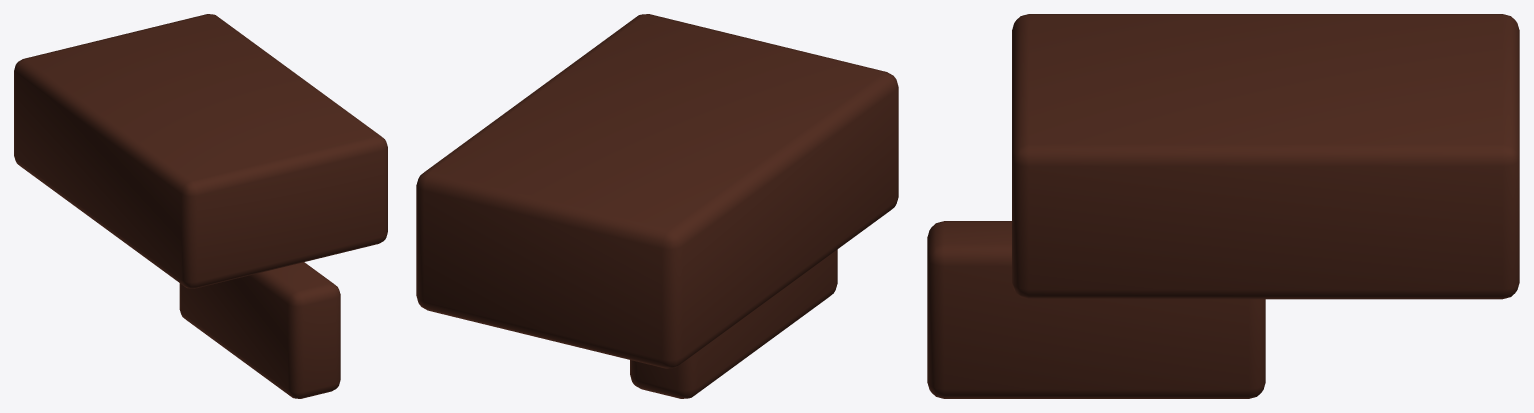
Rendered from BB_PROP_WallSwitch.obj.
The picture shows the model from 3 angles, left to right: view 1: azimuth 30°, elevation 25°; view 2: azimuth 150°, elevation 25°; view 3: azimuth 270°, elevation 25°; orthographic projection. The views are drawn at different scales.
Parts seen in each view (by area): view 1: BB_PROP_WallSwitch; view 2: BB_PROP_WallSwitch; view 3: BB_PROP_WallSwitch.
Part boxes in pixels (<box>): BB_PROP_WallSwitch: <box>14,14,387,398</box>; BB_PROP_WallSwitch: <box>416,14,898,398</box>; BB_PROP_WallSwitch: <box>927,14,1519,398</box>.
Bounding box in the file's own units: 0.2 × 0.2 × 0.35.
